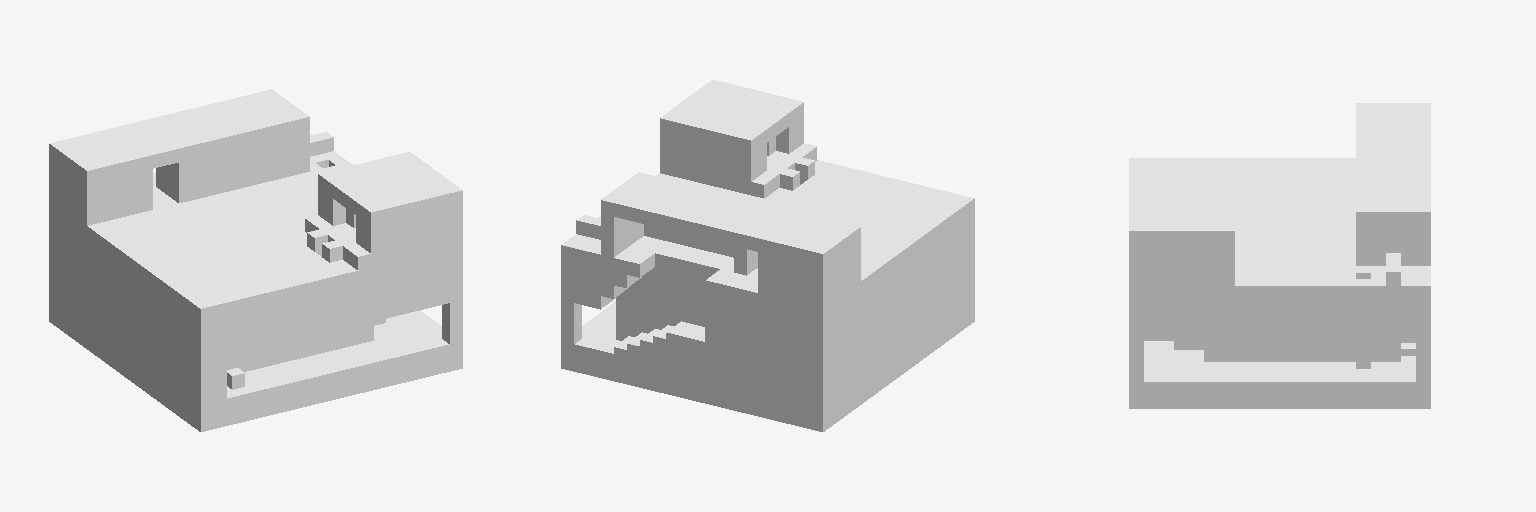
The model's file is ElementalPrototype.obj.
3 renders of one model, left to right at view 1: azimuth 30°, elevation 25°; view 2: azimuth 150°, elevation 25°; view 3: azimuth 270°, elevation 25°, orthographic.
Size of the model in its own units: 40 by 26 by 40.